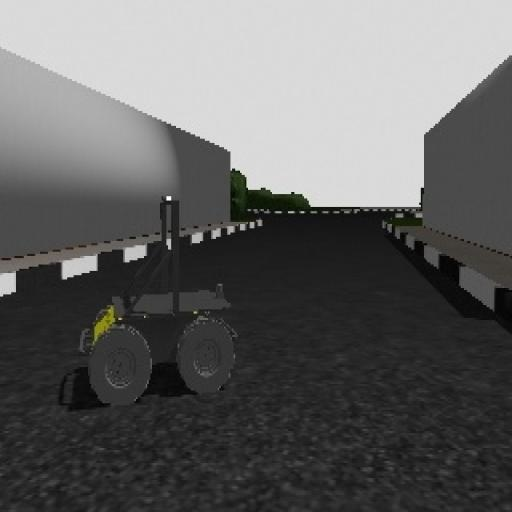huskya200: (68, 192, 256, 420)
